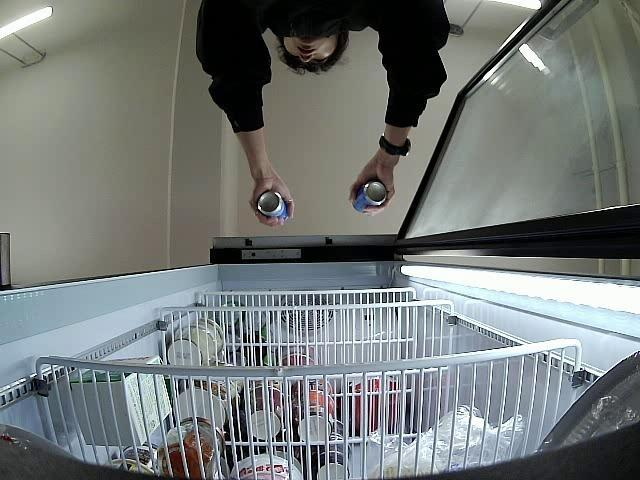15_letsbe: (351, 176, 388, 216), (256, 190, 288, 220)
